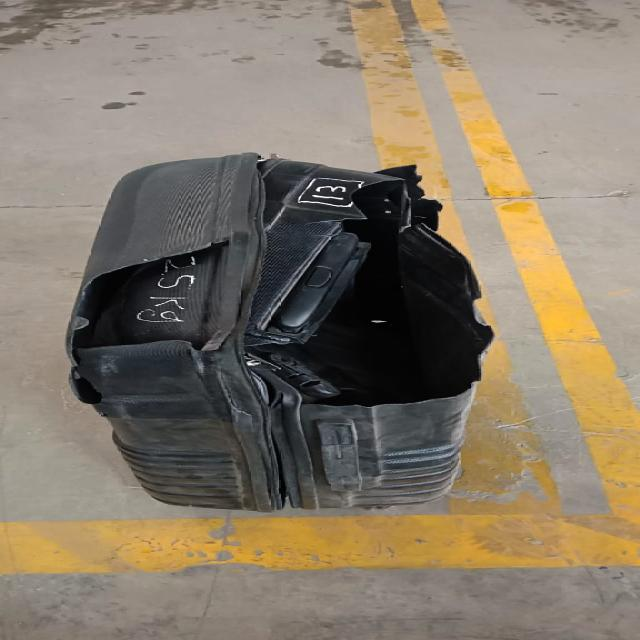Damage-bag: (247, 166, 494, 406), (69, 240, 258, 364), (244, 361, 300, 499), (258, 159, 306, 226), (72, 369, 111, 417)
